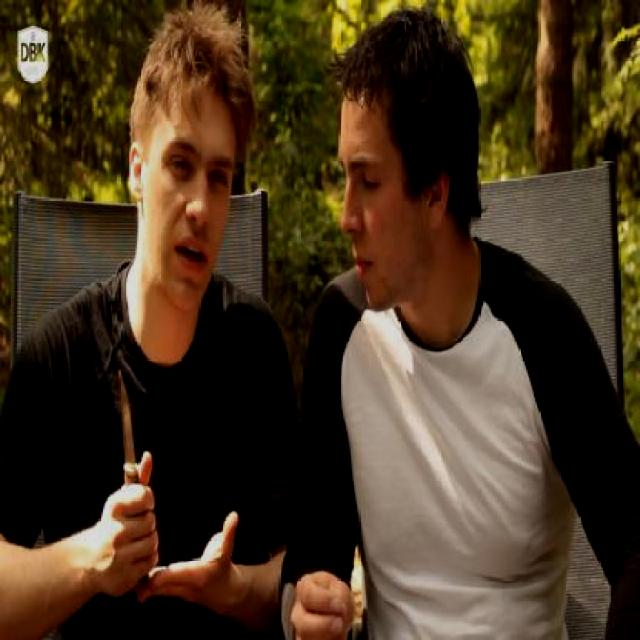knife: (111, 357, 160, 541)
